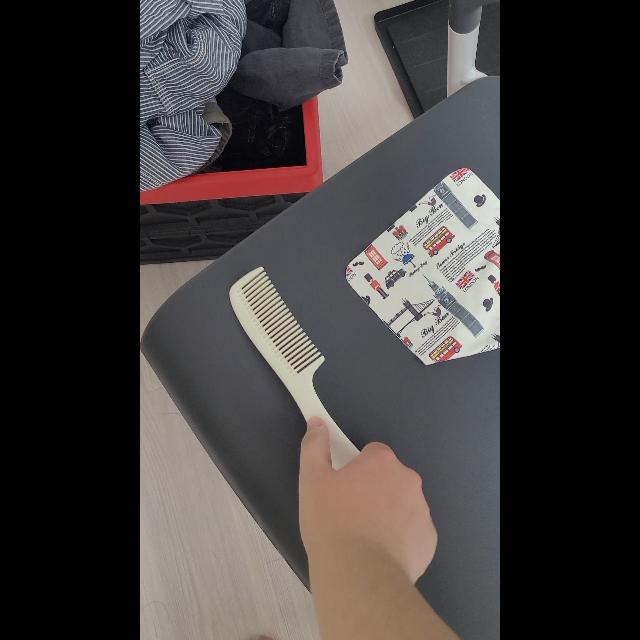COMB: (230, 268, 360, 470)
Glasses cleaning cloth: (346, 167, 500, 365)
